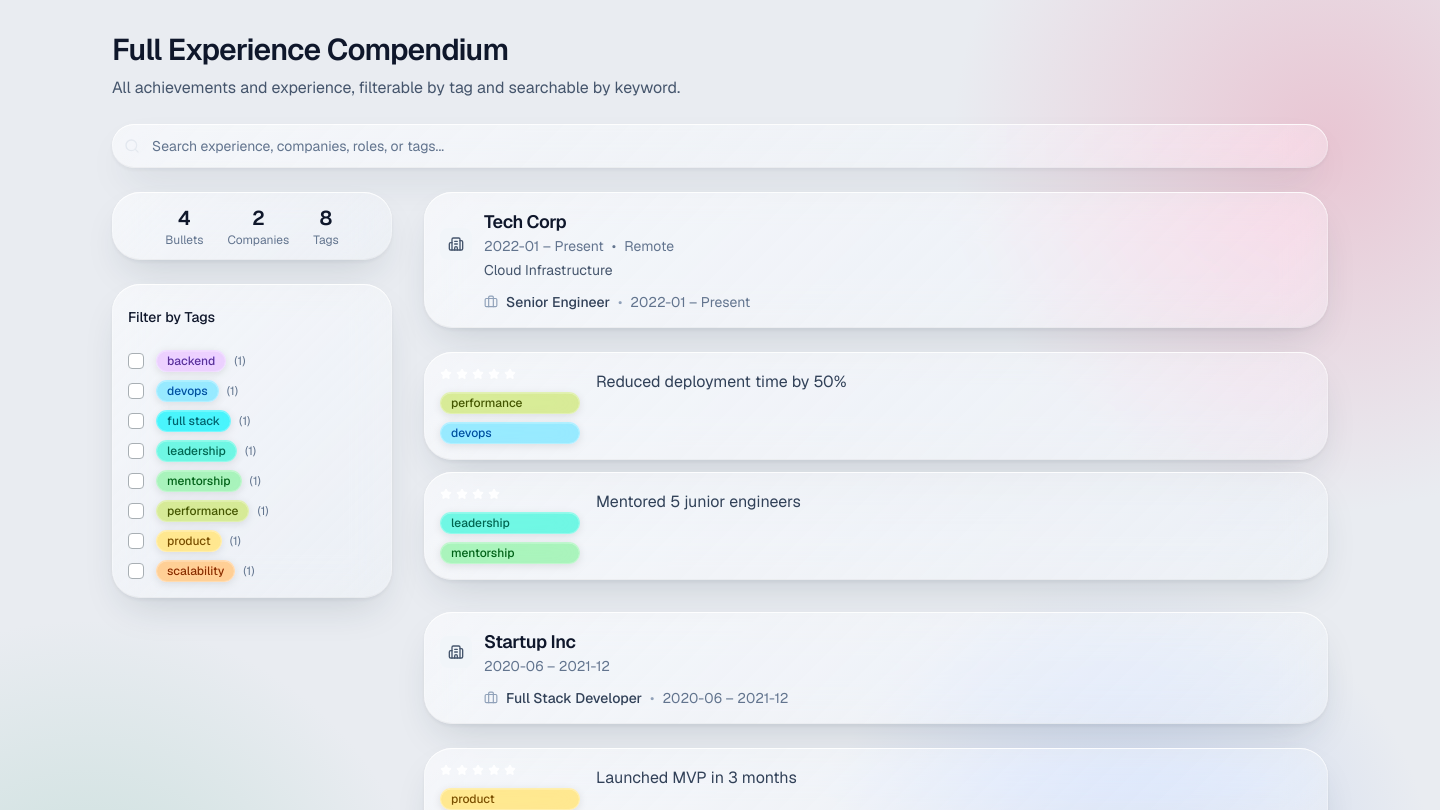
DataExplorer › should clear search when clear button is clicked
In the field with placeholder "Search experience, companies, roles, or tags...": [720, 146] box [112, 124, 1328, 168], type "deployment"
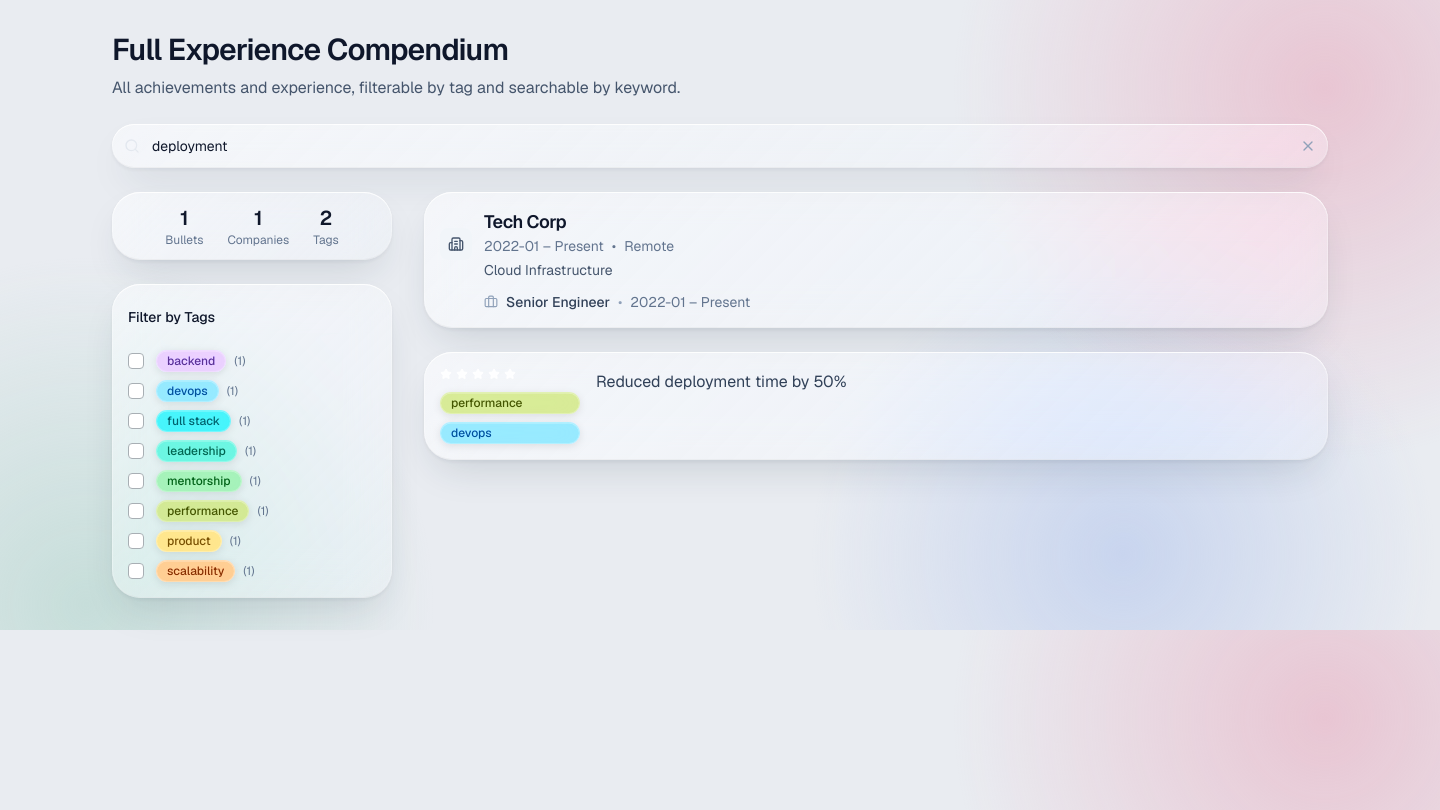
Result: the text "Mentored 5 junior engineers" is gone
Note: Clear search
Click the button named "Clear search": [1308, 146] box [1300, 138, 1316, 154]
(page scrolled)
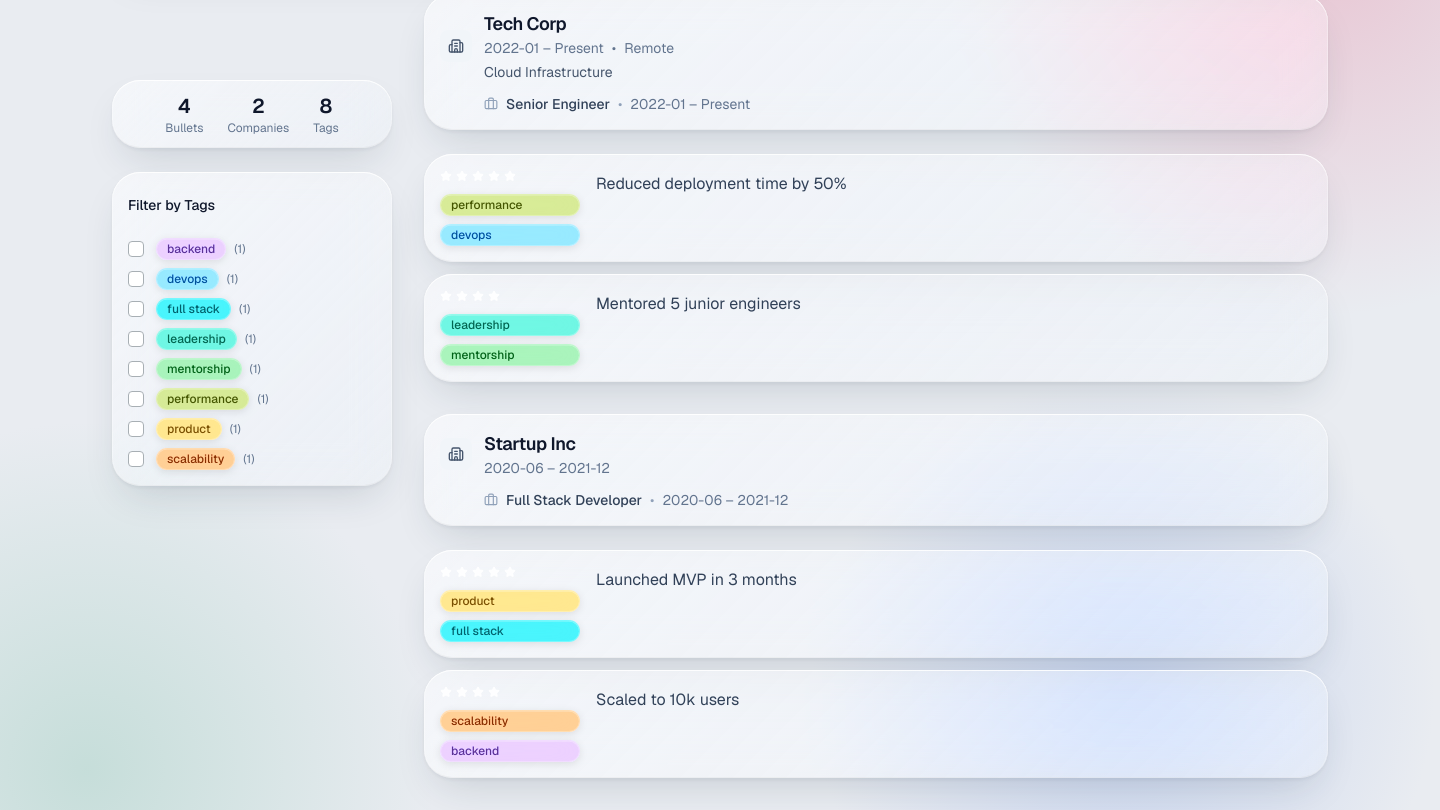
Result: the text "Mentored 5 junior engineers" is shown at [596, 293, 801, 314]
Result: the text "Launched MVP in 3 months" is shown at [596, 569, 797, 590]
Result: the text "Scaled to 10k users" is shown at [596, 689, 739, 710]
